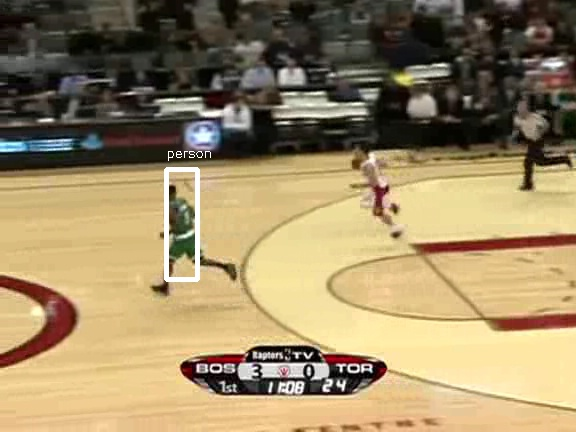person: (167, 193, 201, 274), (166, 193, 200, 274), (168, 193, 202, 274), (167, 192, 201, 273), (167, 194, 201, 275)
target_negative: (32, 91, 500, 421), (328, 40, 547, 184), (135, 124, 503, 146), (500, 218, 563, 330), (422, 279, 491, 363)
